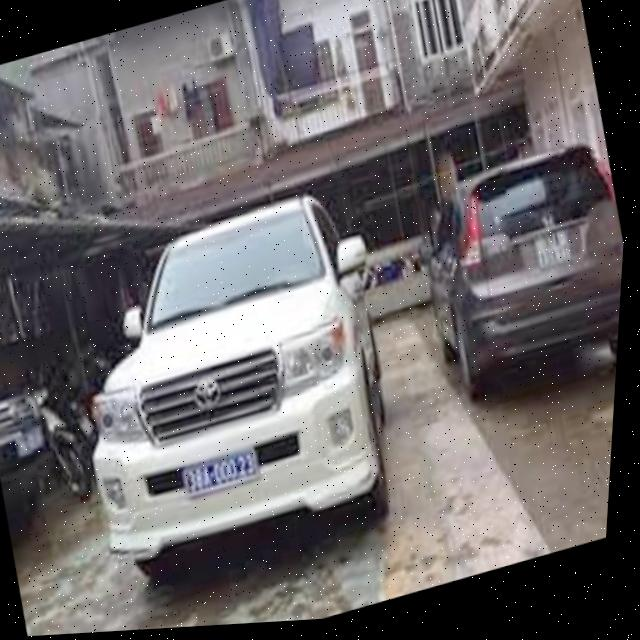car: (39, 171, 441, 605), (396, 132, 630, 429)
plate: (165, 440, 270, 506), (528, 225, 580, 271)
